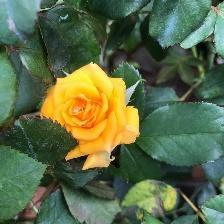rose: (33, 60, 143, 172)
